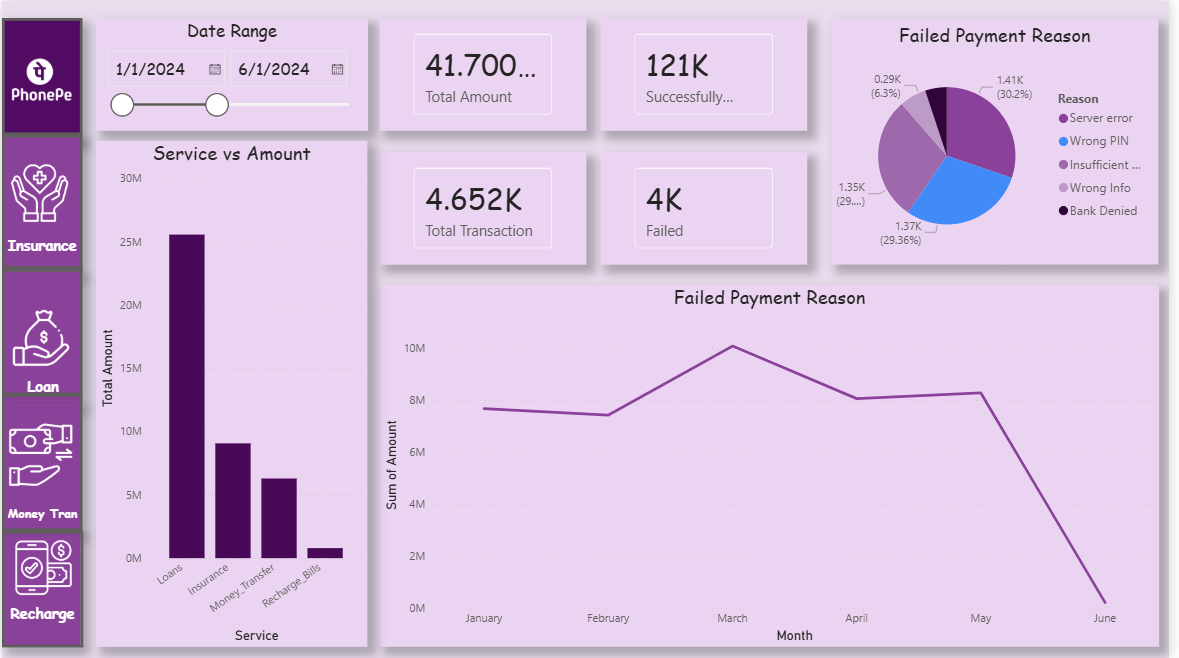

What the dashboard file says about the page in this screenshot:
{"tool":"powerbi","page":{"name":"Home","canvas":[1280,720],"ordinal":0},"visuals":[{"type":"shape","box":[0,18.8,86.2,135],"z":0},{"type":"shape","box":[0,146.7,86.7,150],"z":1000},{"type":"shape","box":[0,296.3,87,146.3],"z":2000},{"type":"shape","box":[0,441.8,86.4,140],"z":3000},{"type":"shape","box":[0,581.4,86.4,127.3],"z":4000},{"type":"image","box":[8.5,32.2,71.2,110.2],"z":5000},{"type":"image","box":[3.3,168.3,76.7,83.3],"z":6000},{"type":"image","box":[3.3,448.3,78.3,98.3],"z":7000},{"type":"image","box":[5,335,78.3,68.3],"z":8000},{"type":"image","box":[10,581.2,72.5,80],"z":9000},{"type":"textbox","box":[0,251.7,88.3,36.7],"z":10000},{"type":"textbox","box":[1.7,406.7,86.7,35],"z":11000},{"type":"textbox","box":[0,546.4,89.1,34.5],"z":12000},{"type":"textbox","box":[0,655,88.8,35],"z":13000},{"type":"slicer","title":"Date Range","fields":{"Values":["All_Transactions.Date"]},"box":[103.3,18.3,298.3,123.3],"z":14000},{"type":"cardVisual","title":"Total Transaction Amount","fields":{"Data":["Sum(All_Transactions.Amount)"]},"box":[413.3,18.3,226.7,123.3],"z":15000},{"type":"cardVisual","title":"Count of Transaction Amount","fields":{"Data":["Count(All_Transactions.Transaction_ID)"]},"box":[413.3,165,226.7,123.3],"z":16000},{"type":"cardVisual","title":"Count of Transaction Amount","fields":{"Data":["All_Transactions.Successfully Transaction"]},"box":[656.7,18.3,226.7,123.3],"z":17000},{"type":"cardVisual","title":"Count of Transaction Amount","fields":{"Data":["All_Transactions.Failed"]},"box":[656.7,165,226.7,123.3],"z":18000},{"type":"pieChart","title":"Failed Payment Reason","fields":{"Category":["All_Transactions.Reason"],"Y":["CountNonNull(All_Transactions.Reason)"]},"box":[910,18.3,358.3,270],"z":19000},{"type":"lineChart","title":"Failed Payment Reason","fields":{"Category":["All_Transactions.Date.Variation.Date Hierarchy.Month"],"Y":["Sum(All_Transactions.Amount)"]},"box":[413.8,311.2,855,397.5],"z":20000},{"type":"clusteredColumnChart","title":"Service vs Amount","fields":{"Y":["Sum(All_Transactions.Amount)"],"Category":["All_Transactions.Service"]},"box":[103.8,153.8,297.5,555],"z":21000},{"type":"actionButton","box":[0,146.7,88.3,150],"z":22000},{"type":"actionButton","box":[0,18.3,88.3,128.3],"z":23000},{"type":"actionButton","box":[0,290,88.3,141.7],"z":24000},{"type":"actionButton","box":[0,431.7,88.3,150],"z":25000},{"type":"actionButton","box":[0,581.7,89.2,127.5],"z":26000}]}

Visuals, with their boxes in screenshot pixels (x1, y1, x2, y2), scaled from the page's 1280x720 canvas onto the 1179x658 screenshot:
shape: left=0, top=17, right=79, bottom=141
shape: left=0, top=134, right=80, bottom=271
shape: left=0, top=271, right=80, bottom=404
shape: left=0, top=404, right=80, bottom=532
shape: left=0, top=531, right=80, bottom=648
image: left=8, top=29, right=73, bottom=130
image: left=3, top=154, right=74, bottom=230
image: left=3, top=410, right=75, bottom=500
image: left=5, top=306, right=77, bottom=369
image: left=9, top=531, right=76, bottom=604
textbox: left=0, top=230, right=81, bottom=264
textbox: left=2, top=372, right=81, bottom=404
textbox: left=0, top=499, right=82, bottom=531
textbox: left=0, top=599, right=82, bottom=631
"Date Range" slicer: left=95, top=17, right=370, bottom=129
"Total Transaction Amount" cardVisual: left=381, top=17, right=590, bottom=129
"Count of Transaction Amount" cardVisual: left=381, top=151, right=590, bottom=263
"Count of Transaction Amount" cardVisual: left=605, top=17, right=814, bottom=129
"Count of Transaction Amount" cardVisual: left=605, top=151, right=814, bottom=263
"Failed Payment Reason" pieChart: left=838, top=17, right=1168, bottom=263
"Failed Payment Reason" lineChart: left=381, top=284, right=1169, bottom=648
"Service vs Amount" clusteredColumnChart: left=96, top=141, right=370, bottom=648
actionButton: left=0, top=134, right=81, bottom=271
actionButton: left=0, top=17, right=81, bottom=134
actionButton: left=0, top=265, right=81, bottom=395
actionButton: left=0, top=395, right=81, bottom=532
actionButton: left=0, top=532, right=82, bottom=648
